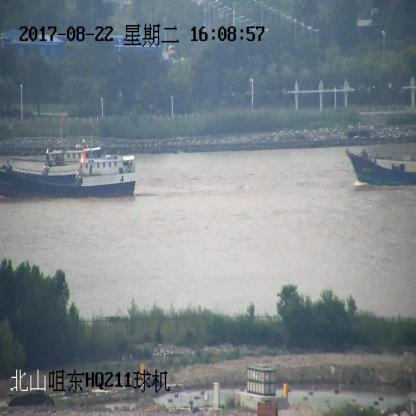Fishing Boat: (0, 143, 137, 199), (0, 117, 102, 180), (347, 148, 415, 187)
